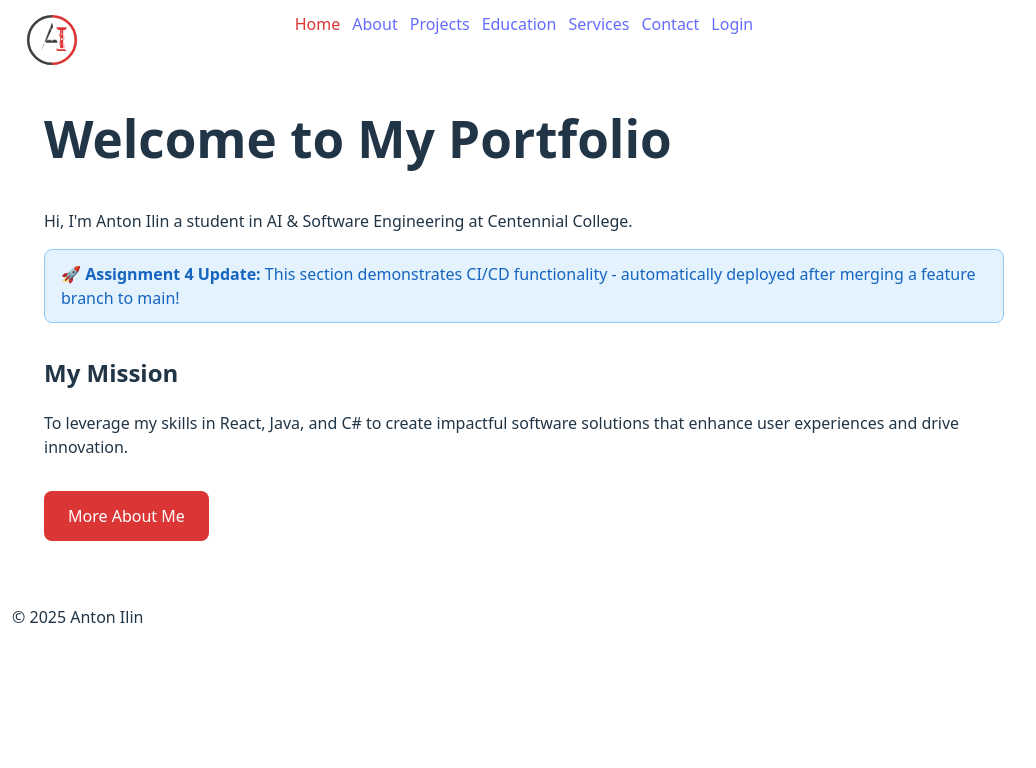
Portfolio App E2E Tests › Navigation Tests › navigates to About page
The image size is (1036, 768).
Click the link "About".
click(375, 24)  # box [352, 12, 397, 36]
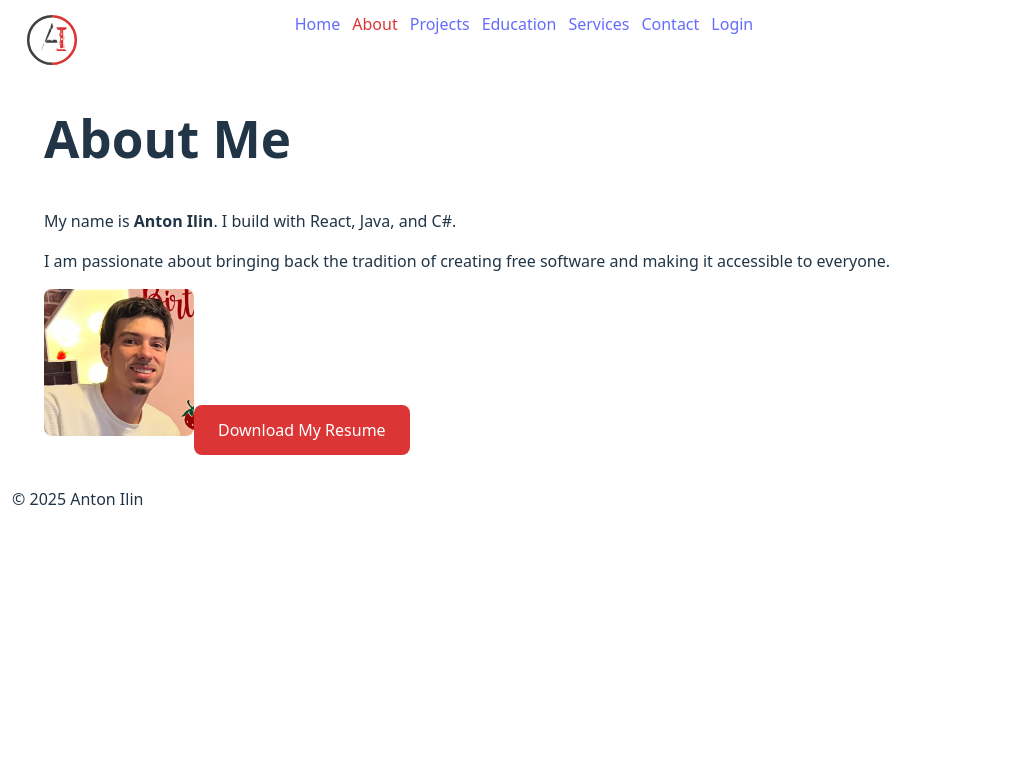
Expected: the heading "About Me" is shown, [44, 104, 291, 174]
